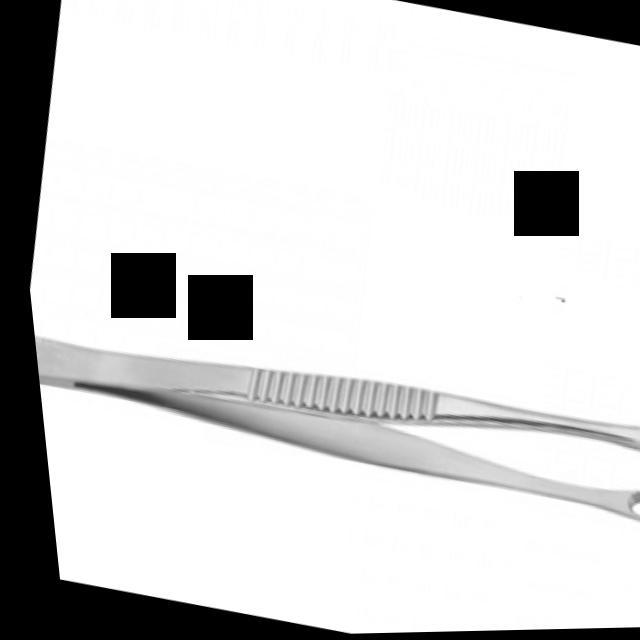Eye Intestinal Forceps: (24, 289, 640, 552)
